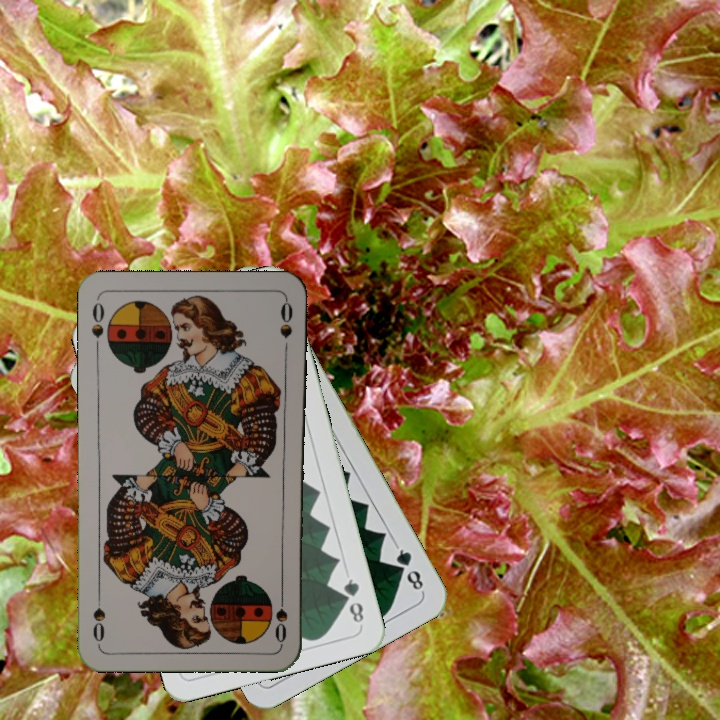G8: (391, 541, 426, 595), (339, 575, 366, 629)
SO: (271, 586, 290, 645), (88, 298, 107, 355)
